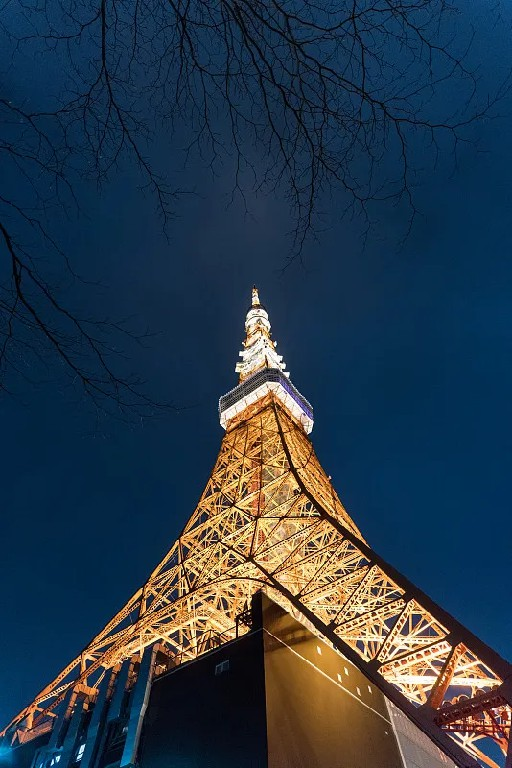Tokyo: (1, 274, 512, 756)
